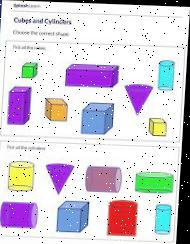cube: (44, 95, 72, 121), (150, 116, 170, 136), (23, 61, 39, 79)
